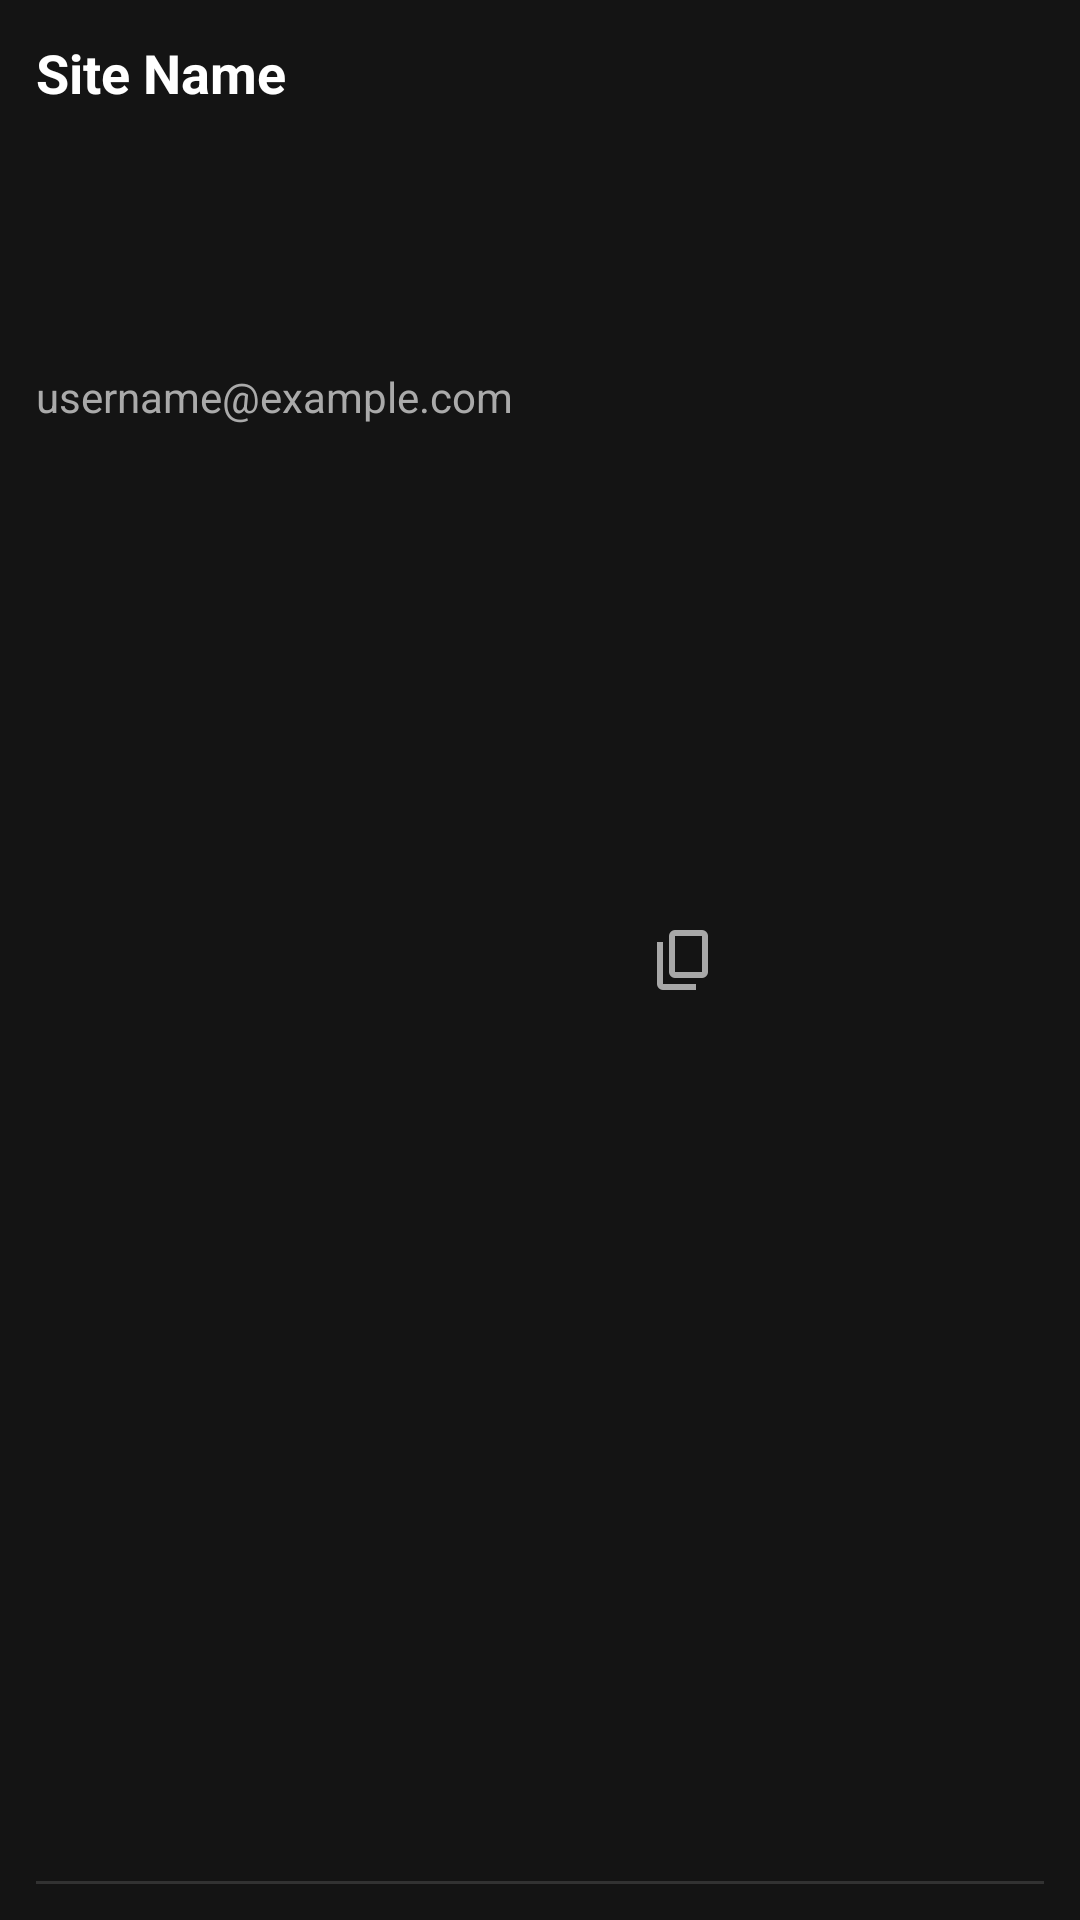

Where to tap for icons on this 1080 × 1920 app screen, as (x,y):
Copy: (682,960)
